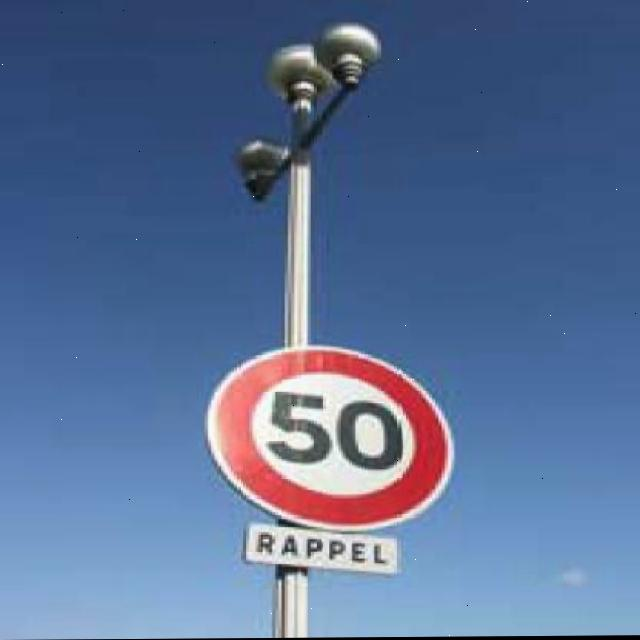Speed limit 50: (204, 341, 458, 534)
